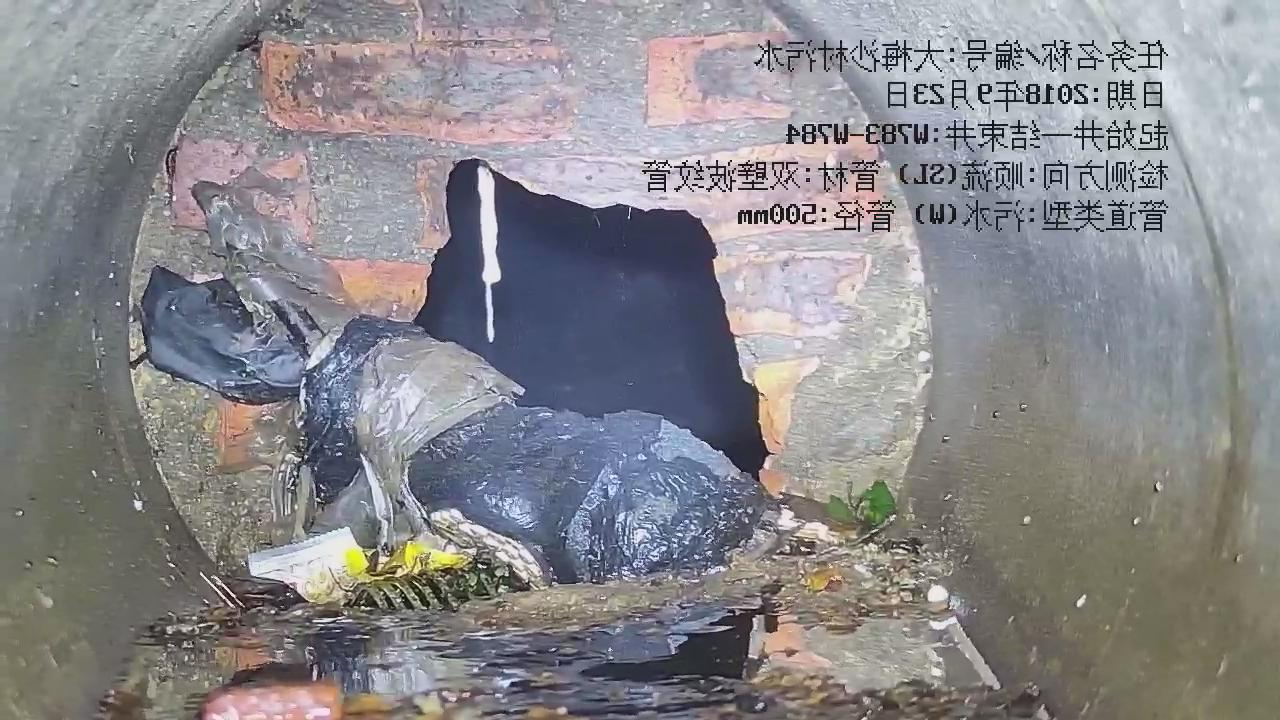CQBG: (133, 0, 931, 497), (133, 372, 280, 554)
